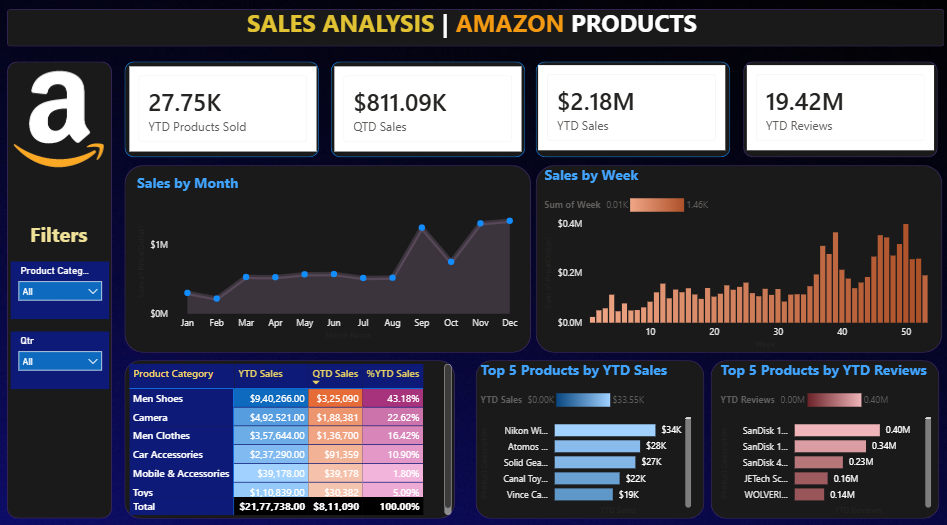

This screenshot's page, from the dashboard's own definition file:
{"tool":"powerbi","page":{"name":"Page 1","canvas":[1280,720],"ordinal":0},"visuals":[{"type":"shape","box":[13.7,13.7,1250,50],"z":0},{"type":"shape","box":[719.1,83.7,259.3,127.6],"z":0,"group":"g1"},{"type":"textbox","box":[328,5.5,624.4,64.5],"z":1000},{"type":"shape","box":[170.2,83.7,259.3,127.6],"z":1000,"group":"g1"},{"type":"shape","box":[13.7,83.7,140,609.3],"z":2000},{"type":"cardVisual","fields":{"Data":["Amazon_Data.YTD Sales"]},"box":[716.1,84.1,259.3,123.5],"z":2000,"group":"g1"},{"type":"shape","box":[444.6,83.7,259.3,127.6],"z":3000,"group":"g1"},{"type":"shape","box":[994.9,83.7,259.3,127.6],"z":3000},{"type":"cardVisual","fields":{"Data":["Amazon_Data.YTD Reviews"]},"box":[994.9,83.7,259.3,123.5],"z":4000},{"type":"cardVisual","fields":{"Data":["Amazon_Data.QTD Sales"]},"box":[444.4,85.5,259.3,123.5],"z":4000,"group":"g1"},{"type":"group","id":"g1","title":"Group 1","box":[170.2,83.7,808.2,127.6],"z":5000},{"type":"cardVisual","fields":{"Data":["Amazon_Data.YTD Products Sold"]},"box":[171.4,85.5,259.3,123.5],"z":5000,"group":"g1"},{"type":"shape","box":[170.2,222.3,542,250],"z":6000},{"type":"areaChart","title":"Sales by Month","fields":{"Category":["Date Table.Month Name"],"Y":["Sum(Amazon_Data.Price(Dollar))"]},"box":[181.1,231.9,522.8,227.8],"z":7000},{"type":"shape","box":[719,222.3,542,250],"z":8000},{"type":"columnChart","title":"Sales by Week","fields":{"Category":["Date Table.Week"],"Y":["Sum(Amazon_Data.Price(Dollar))"]},"box":[724.5,220.9,542,249.7],"z":9000},{"type":"shape","box":[170.2,481.6,440.5,211.3],"z":10000},{"type":"pivotTable","fields":{"Rows":["Amazon_Data.Product Category"],"Values":["Amazon_Data.YTD Sales1","Amazon_Data.QTD Sales","Amazon_Data.YTD Sales"]},"box":[171.5,481.6,439.1,211.3],"z":11000},{"type":"shape","box":[638.1,481.6,304.6,211.3],"z":12000},{"type":"shape","box":[952.3,481.6,304.6,211.3],"z":13000},{"type":"clusteredBarChart","title":"Top 5 Products by YTD Sales","fields":{"Category":["Amazon_Data.Product Description"],"Y":["Amazon_Data.YTD Sales"]},"box":[640.8,481.6,290.9,211.3],"z":14000},{"type":"clusteredBarChart","title":"Top 5 Products by YTD Reviews","fields":{"Category":["Amazon_Data.Product Description"],"Y":["Amazon_Data.YTD Reviews"]},"box":[959.2,481.6,290.9,211.3],"z":15000},{"type":"slicer","fields":{"Values":["Amazon_Data.Product Category"]},"box":[18.6,350,131.4,76.7],"z":16000},{"type":"slicer","fields":{"Values":["Date Table.Qtr"]},"box":[18.6,443,131.4,76.7],"z":17000},{"type":"image","box":[15.1,64,134.9,193],"z":18000},{"type":"textbox","box":[33.7,290.7,97.7,54.7],"z":19000}]}

Visuals, with their boxes in screenshot pixels (x1, y1, x2, y2), scaled from the page's 1280x720 canvas onto the 947x525 screenshot:
shape: <box>10,10,935,46</box>
shape: <box>532,61,724,154</box>
textbox: <box>243,4,705,51</box>
shape: <box>126,61,318,154</box>
shape: <box>10,61,114,505</box>
cardVisual - Amazon_Data.YTD Sales: <box>530,61,722,151</box>
shape: <box>329,61,521,154</box>
shape: <box>736,61,928,154</box>
cardVisual - Amazon_Data.YTD Reviews: <box>736,61,928,151</box>
cardVisual - Amazon_Data.QTD Sales: <box>329,62,521,152</box>
"Group 1" group: <box>126,61,724,154</box>
cardVisual - Amazon_Data.YTD Products Sold: <box>127,62,319,152</box>
shape: <box>126,162,527,344</box>
"Sales by Month" areaChart: <box>134,169,521,335</box>
shape: <box>532,162,933,344</box>
"Sales by Week" columnChart: <box>536,161,937,343</box>
shape: <box>126,351,452,505</box>
pivotTable - Amazon_Data.Product Category x Amazon_Data.YTD Sales1: <box>127,351,452,505</box>
shape: <box>472,351,697,505</box>
shape: <box>705,351,930,505</box>
"Top 5 Products by YTD Sales" clusteredBarChart: <box>474,351,689,505</box>
"Top 5 Products by YTD Reviews" clusteredBarChart: <box>710,351,925,505</box>
slicer - Amazon_Data.Product Category: <box>14,255,111,311</box>
slicer - Date Table.Qtr: <box>14,323,111,379</box>
image: <box>11,47,111,187</box>
textbox: <box>25,212,97,252</box>
